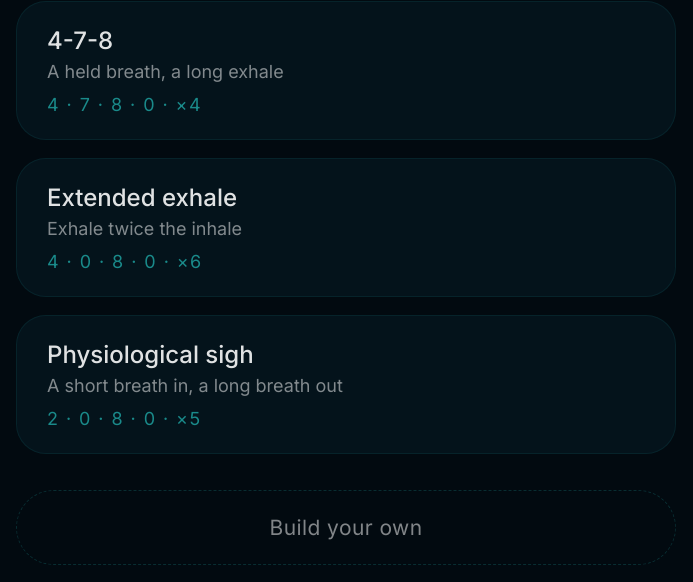
Test: CustomBuilderScreen — build your own (paced, one value at a time) › the inhale stepper cannot go below the safe floor
The image size is (693, 582).
(page scrolled)
Step 1. Click the button "Build your own" → (346, 527), box [16,490,676,565]
(page scrolled)
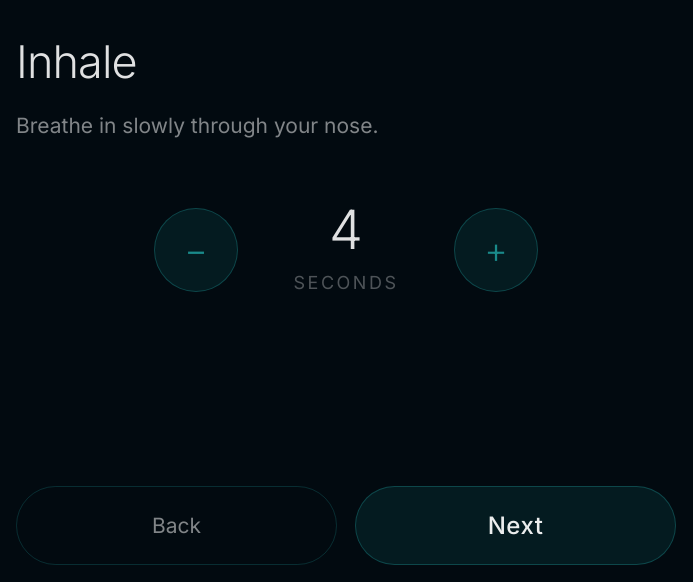
Step 2. Click the button named "decrease inhale" → (196, 250), box [154,208,238,292]
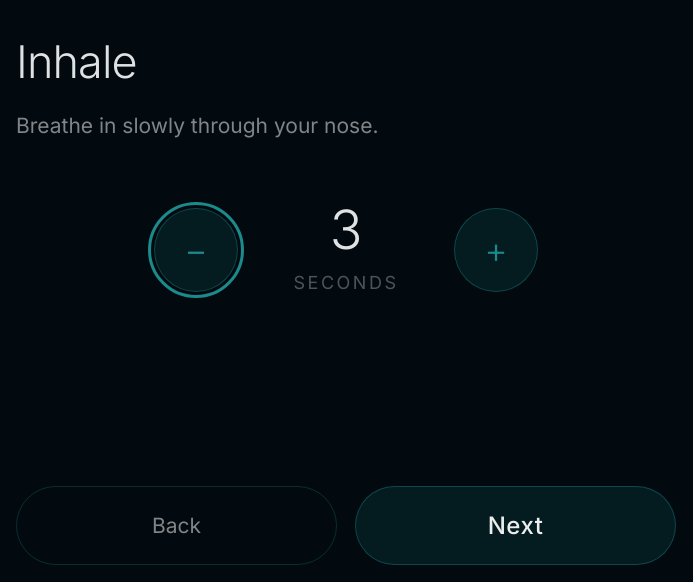
Step 3. Click the button named "decrease inhale" → (196, 250), box [154,208,238,292]
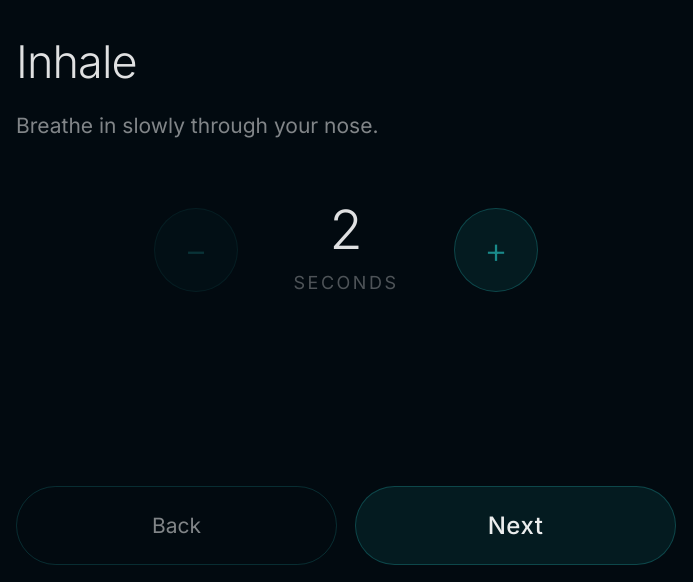
Result: the button named "decrease inhale" is disabled at [154,208,238,292]
